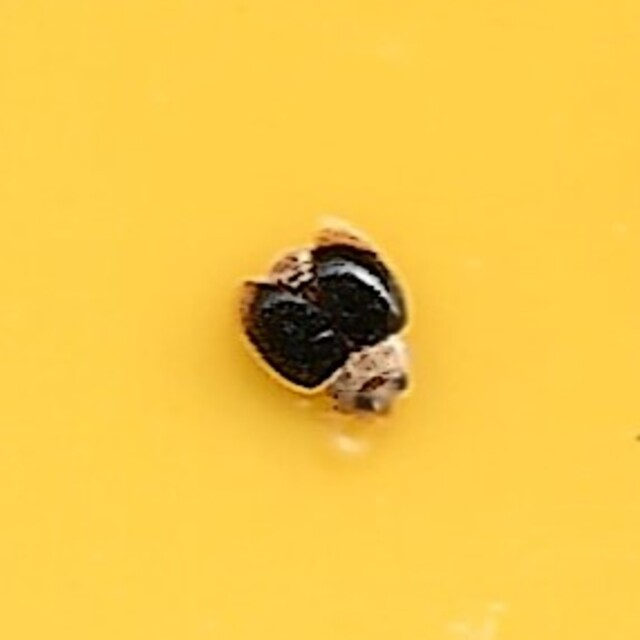Coleoptera: (224, 221, 416, 419)
